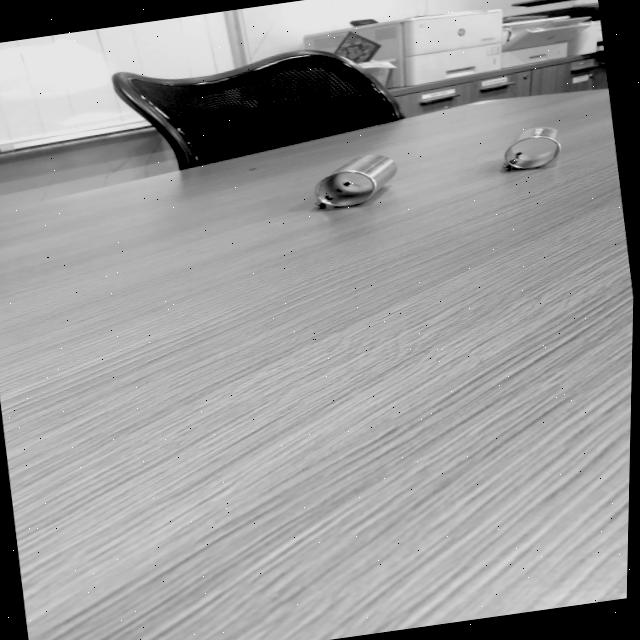Co_Lon: (306, 139, 403, 225)
Co_Nho: (495, 123, 563, 175)
